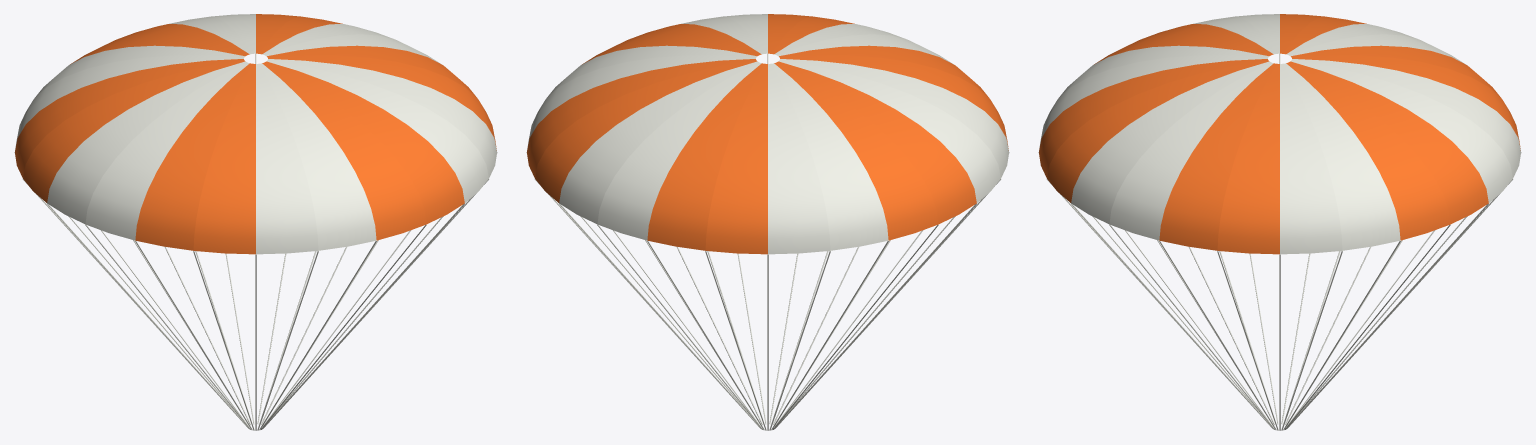
The model's file is parachute-open.glb.
3 renders of one model, left to right at view 1: azimuth 30°, elevation 25°; view 2: azimuth 150°, elevation 25°; view 3: azimuth 270°, elevation 25°, orthographic.
Parts seen in each view (by area): view 1: Canopy panel 07, Canopy panel 08, Canopy panel 06, Canopy panel 09, Canopy panel 05, Canopy panel 10, Canopy panel 04, Canopy panel 11, Canopy panel 03, Canopy panel 12, Canopy panel 02, Canopy panel 13 (+14 smaller); view 2: Canopy panel 15, Canopy panel 16, Canopy panel 14, Canopy panel 17, Canopy panel 13, Canopy panel 18, Canopy panel 12, Canopy panel 19, Canopy panel 11, Canopy panel 20, Canopy panel 10, Canopy panel 21 (+14 smaller); view 3: Canopy panel 00, Canopy panel 23, Canopy panel 01, Canopy panel 22, Canopy panel 02, Canopy panel 21, Canopy panel 03, Canopy panel 20, Canopy panel 04, Canopy panel 19, Canopy panel 05, Canopy panel 18 (+14 smaller).
Boxes of the visible parts, box(x1,y1,x2,y2) form: Canopy panel 07: box(256, 63, 318, 254); Canopy panel 08: box(193, 63, 255, 254); Canopy panel 06: box(259, 63, 376, 250); Canopy panel 09: box(135, 63, 252, 250); Canopy panel 05: box(262, 62, 426, 240); Canopy panel 10: box(85, 62, 249, 240); Canopy panel 04: box(265, 61, 464, 223); Canopy panel 11: box(47, 61, 246, 223); Canopy panel 03: box(266, 60, 488, 202); Canopy panel 12: box(23, 60, 245, 202); Canopy panel 02: box(268, 59, 496, 177); Canopy panel 13: box(15, 59, 243, 177); Canopy panel 15: box(768, 63, 830, 254); Canopy panel 16: box(705, 63, 767, 254); Canopy panel 14: box(771, 63, 888, 250); Canopy panel 17: box(647, 63, 764, 250); Canopy panel 13: box(774, 62, 938, 240); Canopy panel 18: box(597, 62, 761, 240); Canopy panel 12: box(777, 61, 976, 223); Canopy panel 19: box(559, 61, 758, 223); Canopy panel 11: box(778, 60, 1000, 202); Canopy panel 20: box(535, 60, 757, 202); Canopy panel 10: box(780, 59, 1008, 177); Canopy panel 21: box(527, 59, 755, 177); Canopy panel 00: box(1217, 63, 1279, 254); Canopy panel 23: box(1280, 63, 1342, 254); Canopy panel 01: box(1159, 63, 1276, 250); Canopy panel 22: box(1283, 63, 1400, 250); Canopy panel 02: box(1109, 62, 1273, 240); Canopy panel 21: box(1286, 62, 1450, 240); Canopy panel 03: box(1071, 61, 1270, 223); Canopy panel 20: box(1289, 61, 1488, 223); Canopy panel 04: box(1047, 60, 1269, 202); Canopy panel 19: box(1290, 60, 1512, 202); Canopy panel 05: box(1039, 59, 1267, 177); Canopy panel 18: box(1292, 59, 1520, 177).
Size of the model in its own units: 14.03 by 11.81 by 14.03.
